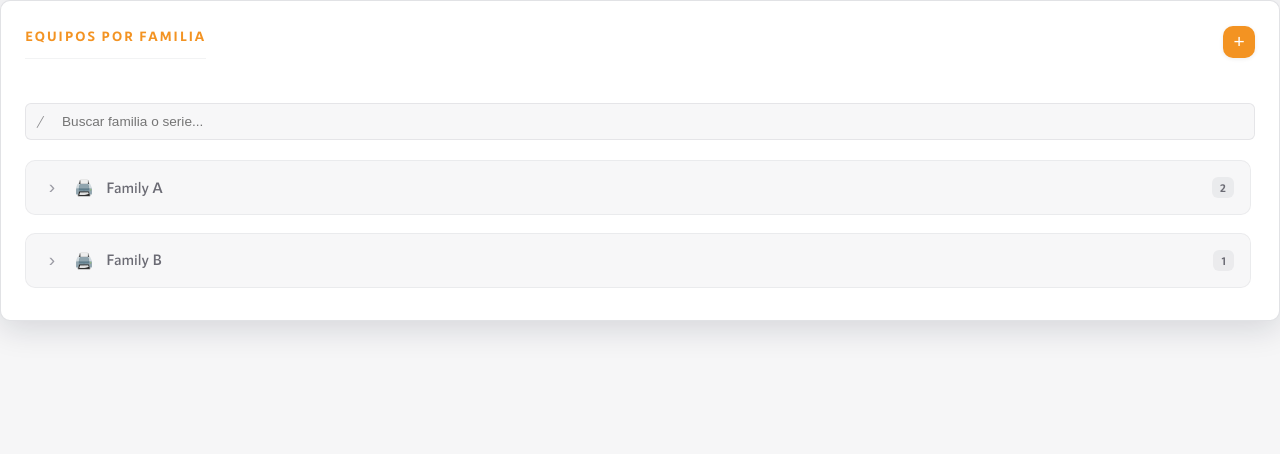
AvisosSidebar › expands a family to show devices when clicked
The width and height of the screenshot is (1280, 454).
Click the text "Family A" at (134, 187), box [106,178,163,196]
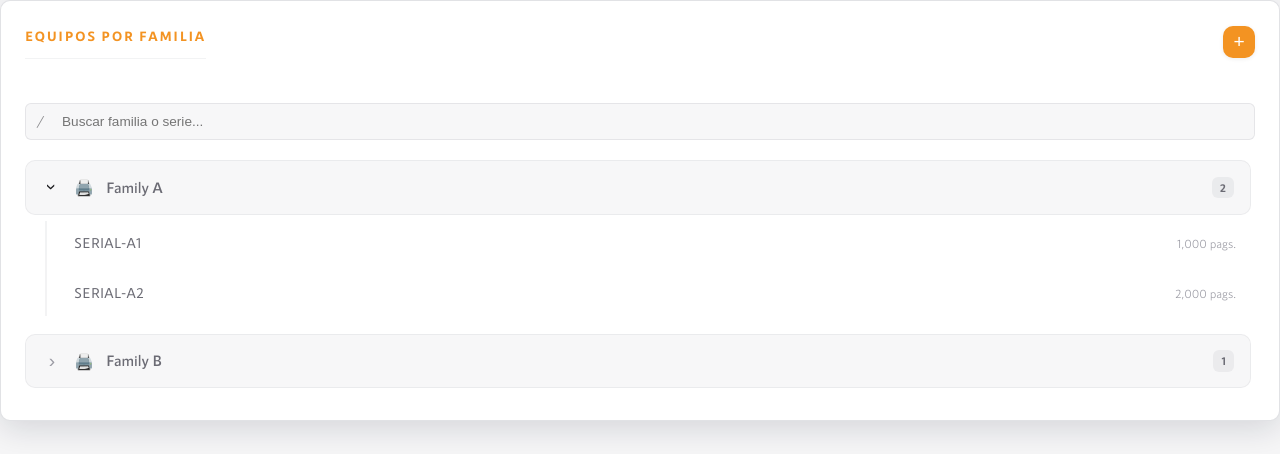
Check: the text "SERIAL-A1" is shown, box [74,232,142,254]
Check: the text "SERIAL-A2" is shown, box [74,282,144,304]
